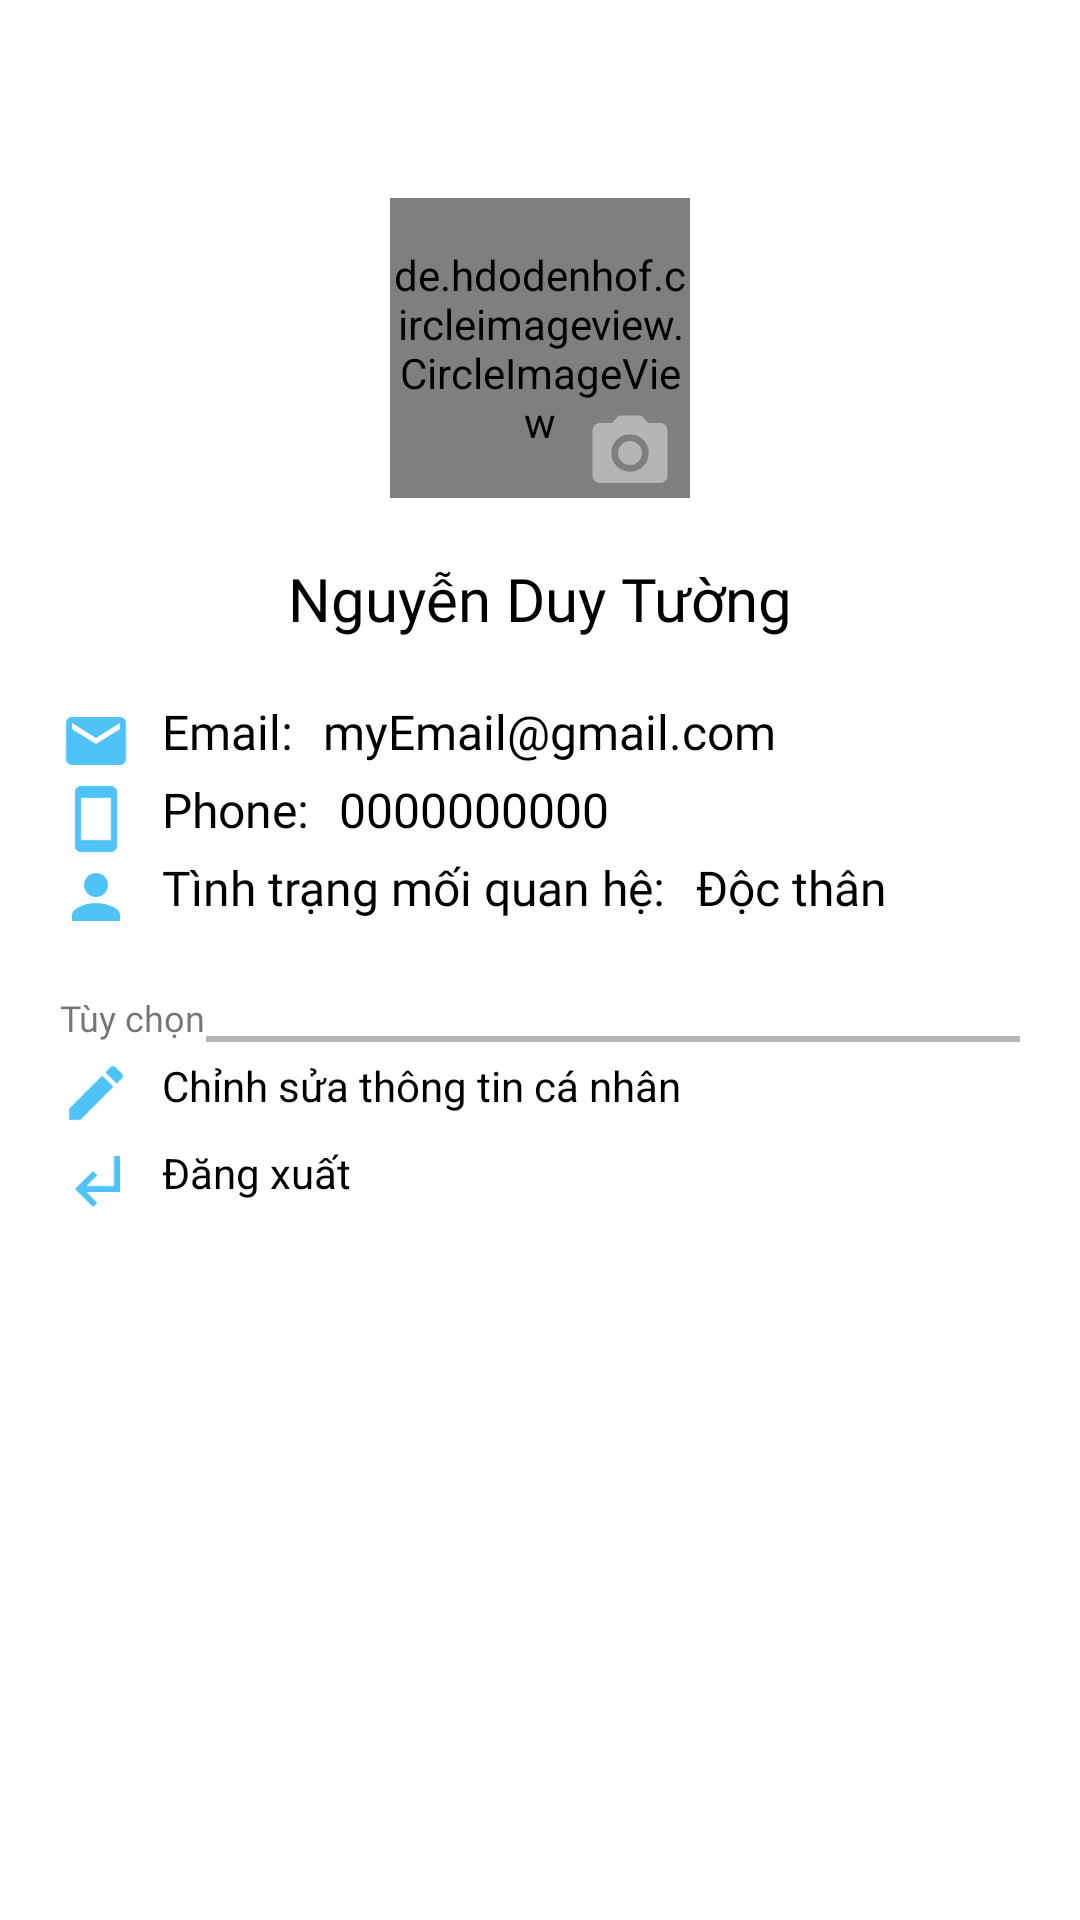

Where to tap for icons on this 1080px x 1920px app screen, as (x=x, y=y):
camera: (x=630, y=449)
edit: (x=96, y=1093)
person: (x=96, y=897)
